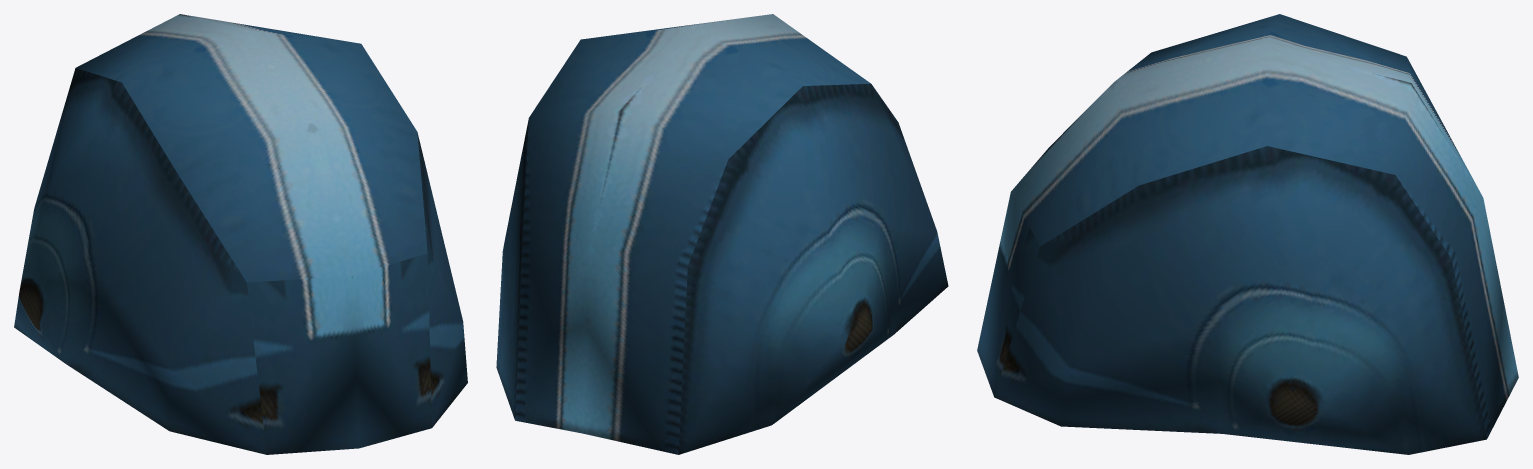
File: Helmet5__LED.glb
The picture shows the model from 3 angles, left to right: view 1: azimuth 30°, elevation 25°; view 2: azimuth 150°, elevation 25°; view 3: azimuth 270°, elevation 25°; orthographic projection. The views are drawn at different scales.
Parts seen in each view (by area): view 1: Helmet5; view 2: Helmet5; view 3: Helmet5.
Part boxes in pixels (left/top/right/bottom): Helmet5: left=14, top=14, right=467, bottom=454; Helmet5: left=496, top=14, right=948, bottom=454; Helmet5: left=977, top=14, right=1518, bottom=454.
Bounding box in the file's own units: 12.59 × 11.15 × 15.37.
1 material, 1 textured.
